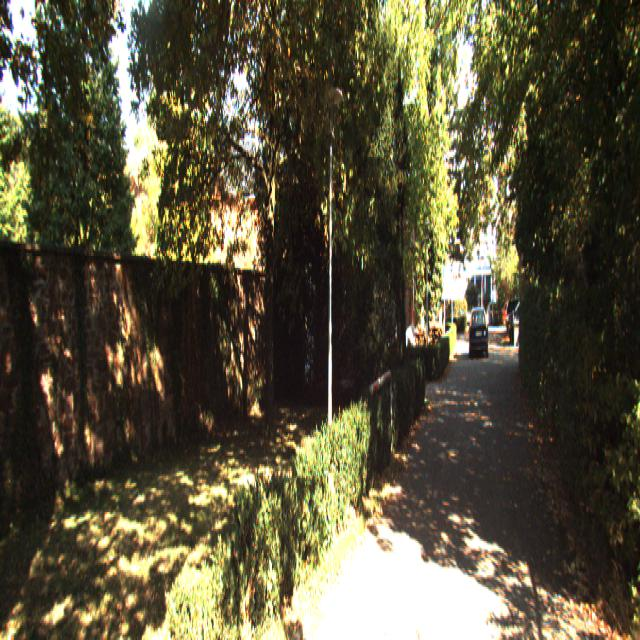Car: (470, 306, 489, 358)
